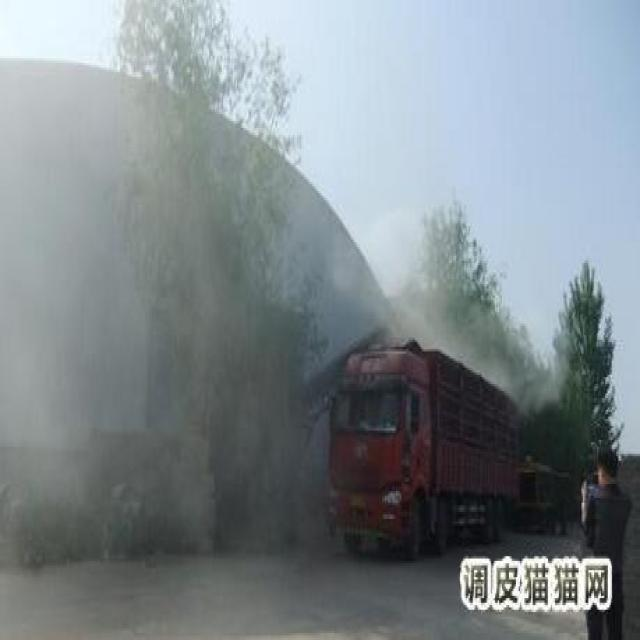Smoke: (0, 0, 329, 561), (329, 201, 571, 414)
